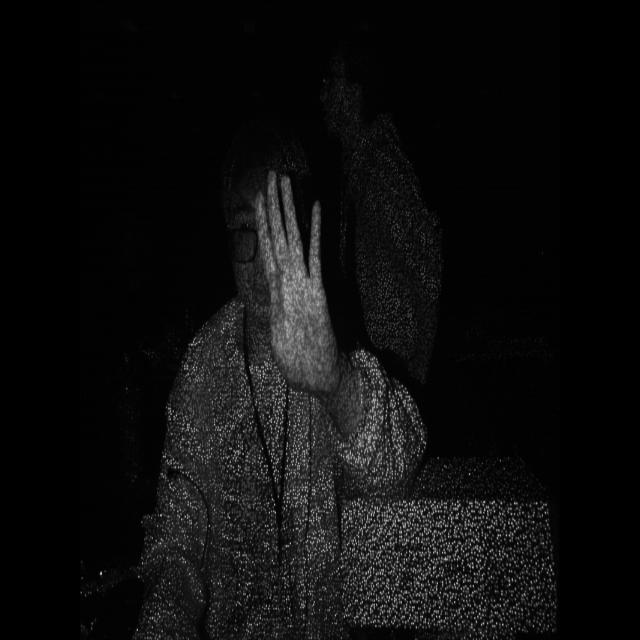B: (248, 172, 366, 417)
